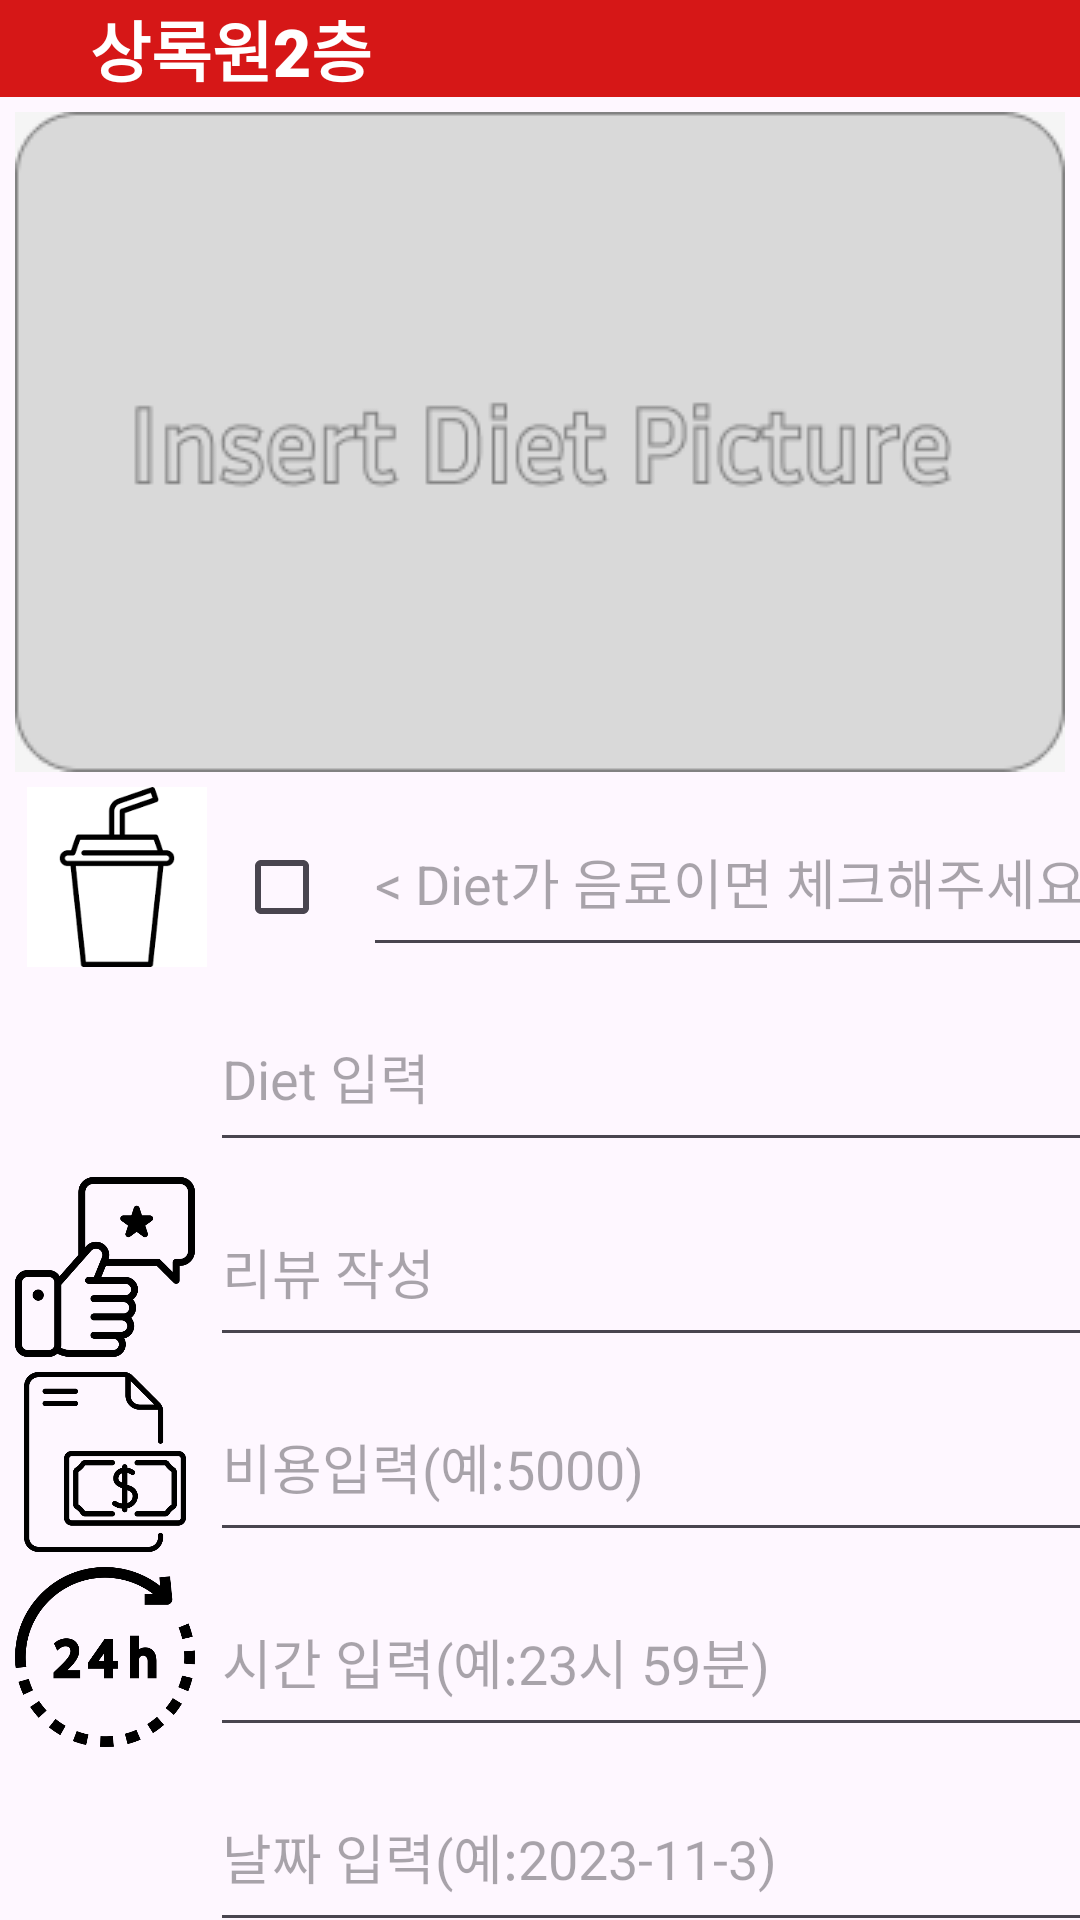

Where to tap for icons on this 1080w x 1920h app screen, as (x=x, y=y):
beverage: (x=117, y=877)
cost: (x=105, y=1462)
review: (x=105, y=1267)
timeicon: (x=105, y=1657)
